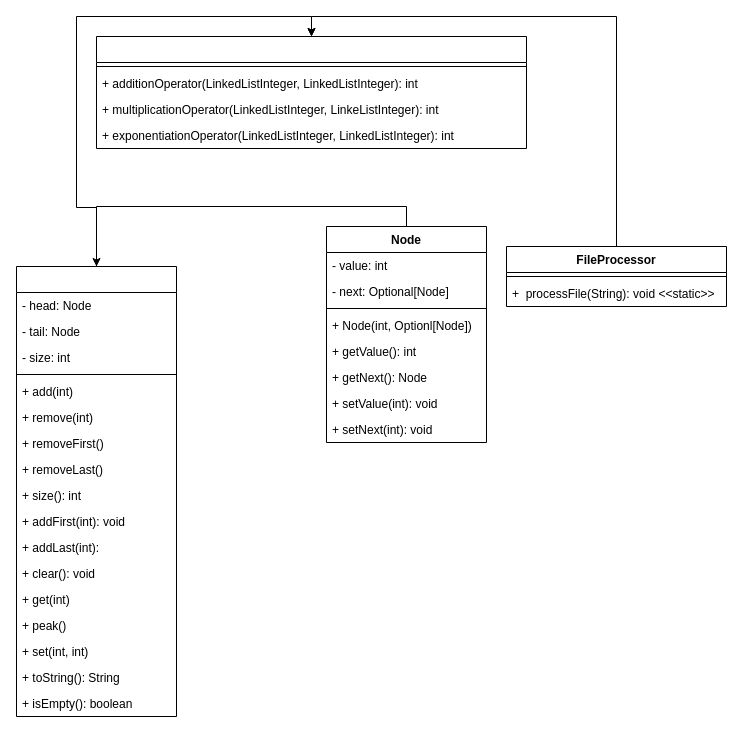
Some shapes in this 743 by 733 pixel diagram are drawn without their labels. The shapes that lost their labels are listed below. From the top down, each one's box as (x1, y1, x2, y2) in pixels, then its label:
(96, 36, 526, 148): Calculator
(16, 266, 176, 716): LinkedListInteger
